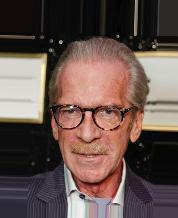face: (58, 102, 118, 163)
